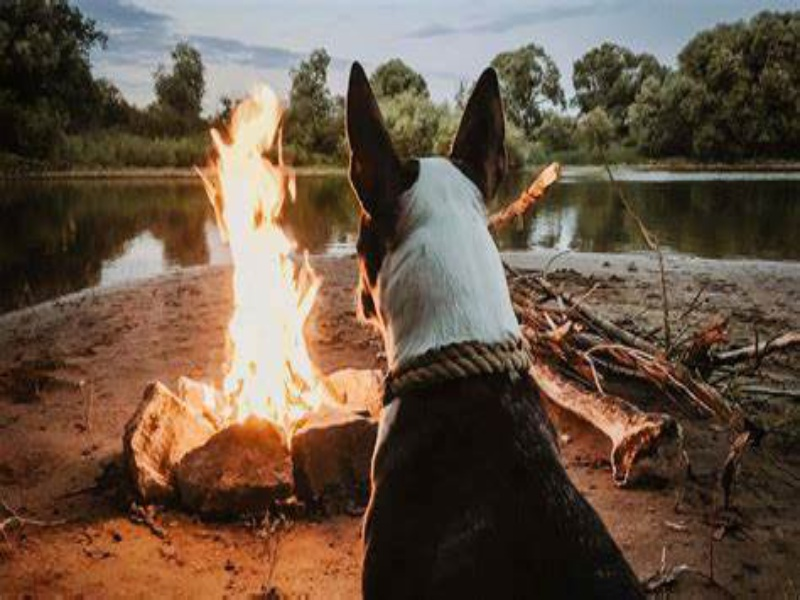fire: (194, 95, 320, 417)
